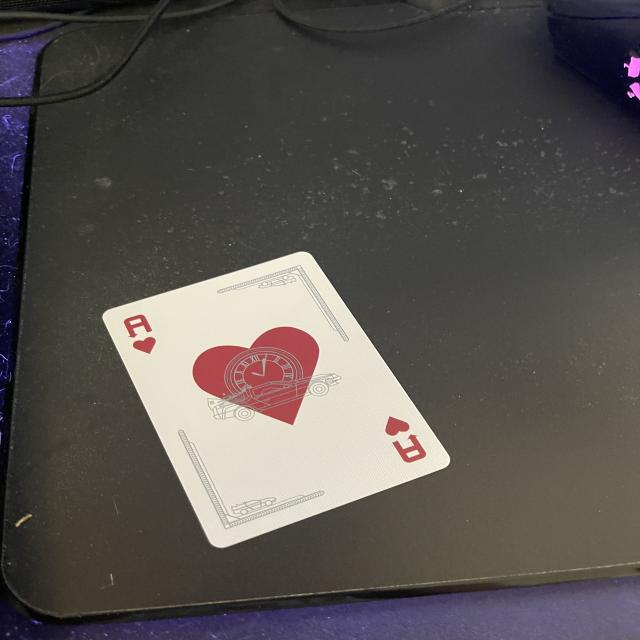Ace of hearts: (106, 251, 450, 548)
